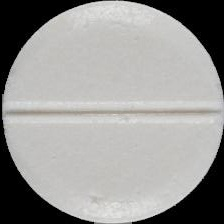0574-0106: (0, 0, 224, 224)
